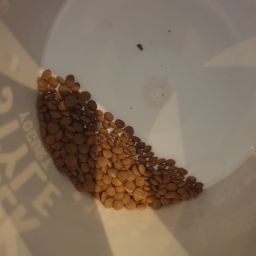Black Lentil(masoor daal): (20, 60, 209, 247)
